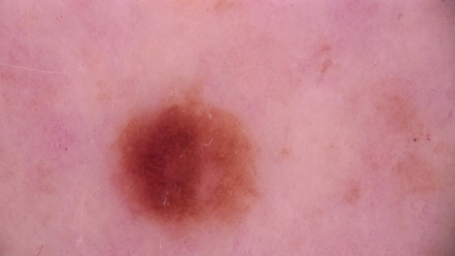melanoma: (113, 103, 252, 231)
